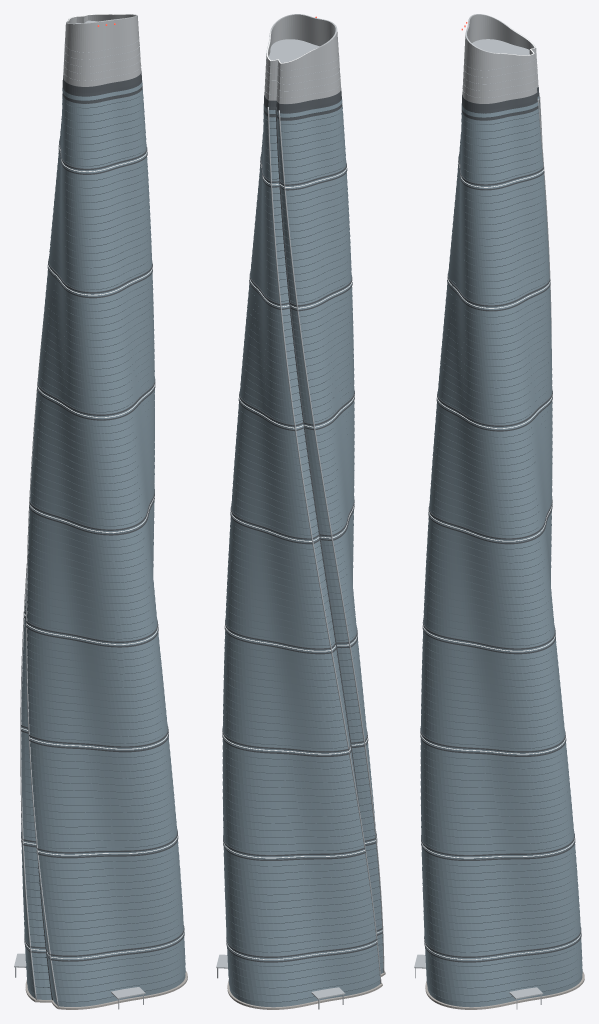
File: shanghai-tower.glb
3 renders of one model, left to right at view 1: azimuth 30°, elevation 25°; view 2: azimuth 150°, elevation 25°; view 3: azimuth 270°, elevation 25°, orthographic.
Visible parts, largest first — view 1: shanghai-tower; view 2: shanghai-tower; view 3: shanghai-tower.
Part boxes in pixels (x1,y1,x2,y2): shanghai-tower: [14, 14, 187, 1009]; shanghai-tower: [216, 14, 385, 1009]; shanghai-tower: [414, 14, 584, 1009].
Bounding box in the file's own units: 99.48 × 632 × 103.
